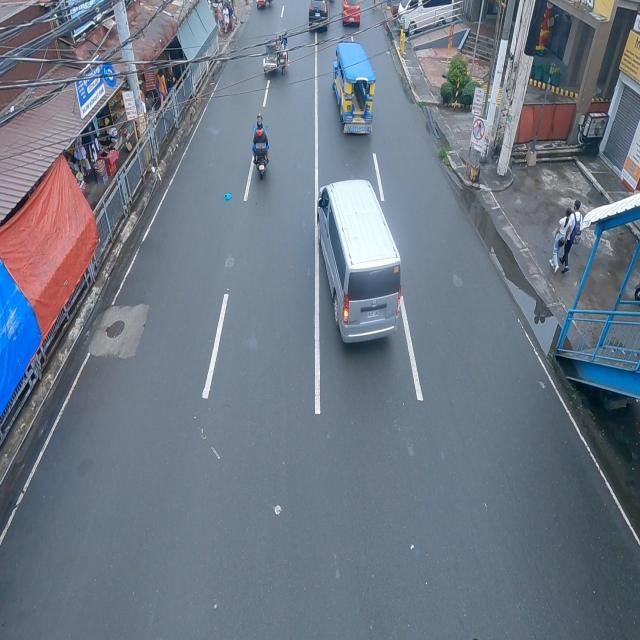Van: (316, 178, 401, 351)
